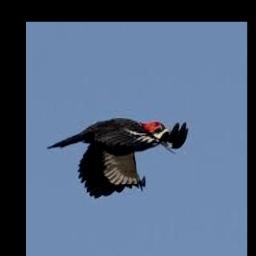Woodpecker: (46, 117, 188, 199)
